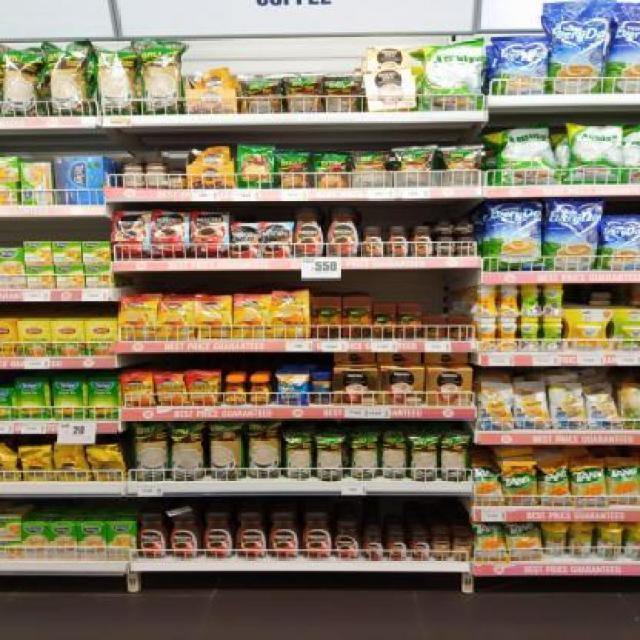Coffee: (113, 210, 150, 258), (190, 212, 228, 258), (272, 293, 310, 339), (234, 293, 272, 338), (153, 212, 188, 258), (196, 296, 233, 339), (326, 209, 358, 258), (294, 208, 324, 259), (157, 299, 194, 339), (120, 299, 156, 340), (301, 514, 332, 558), (202, 515, 232, 559), (138, 513, 167, 558), (269, 514, 298, 558), (237, 514, 266, 557), (171, 514, 198, 557), (187, 373, 220, 406), (231, 222, 260, 258), (155, 376, 188, 407), (263, 224, 292, 258), (123, 376, 154, 407), (335, 522, 358, 559), (361, 226, 384, 258), (388, 226, 410, 257), (412, 226, 434, 257), (387, 530, 408, 560), (363, 530, 383, 560), (410, 530, 430, 560), (224, 378, 245, 406), (249, 377, 270, 404), (459, 238, 478, 256), (436, 238, 455, 256), (455, 219, 474, 236), (435, 219, 452, 234)
